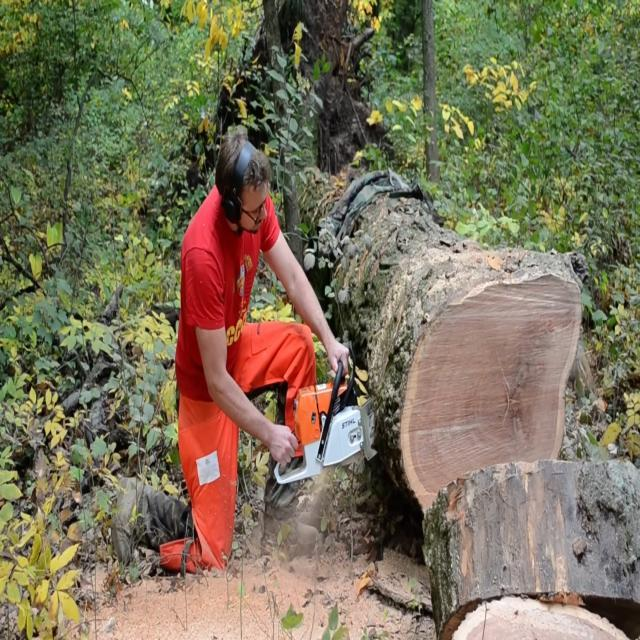Chainsaw: (250, 332, 405, 495)
